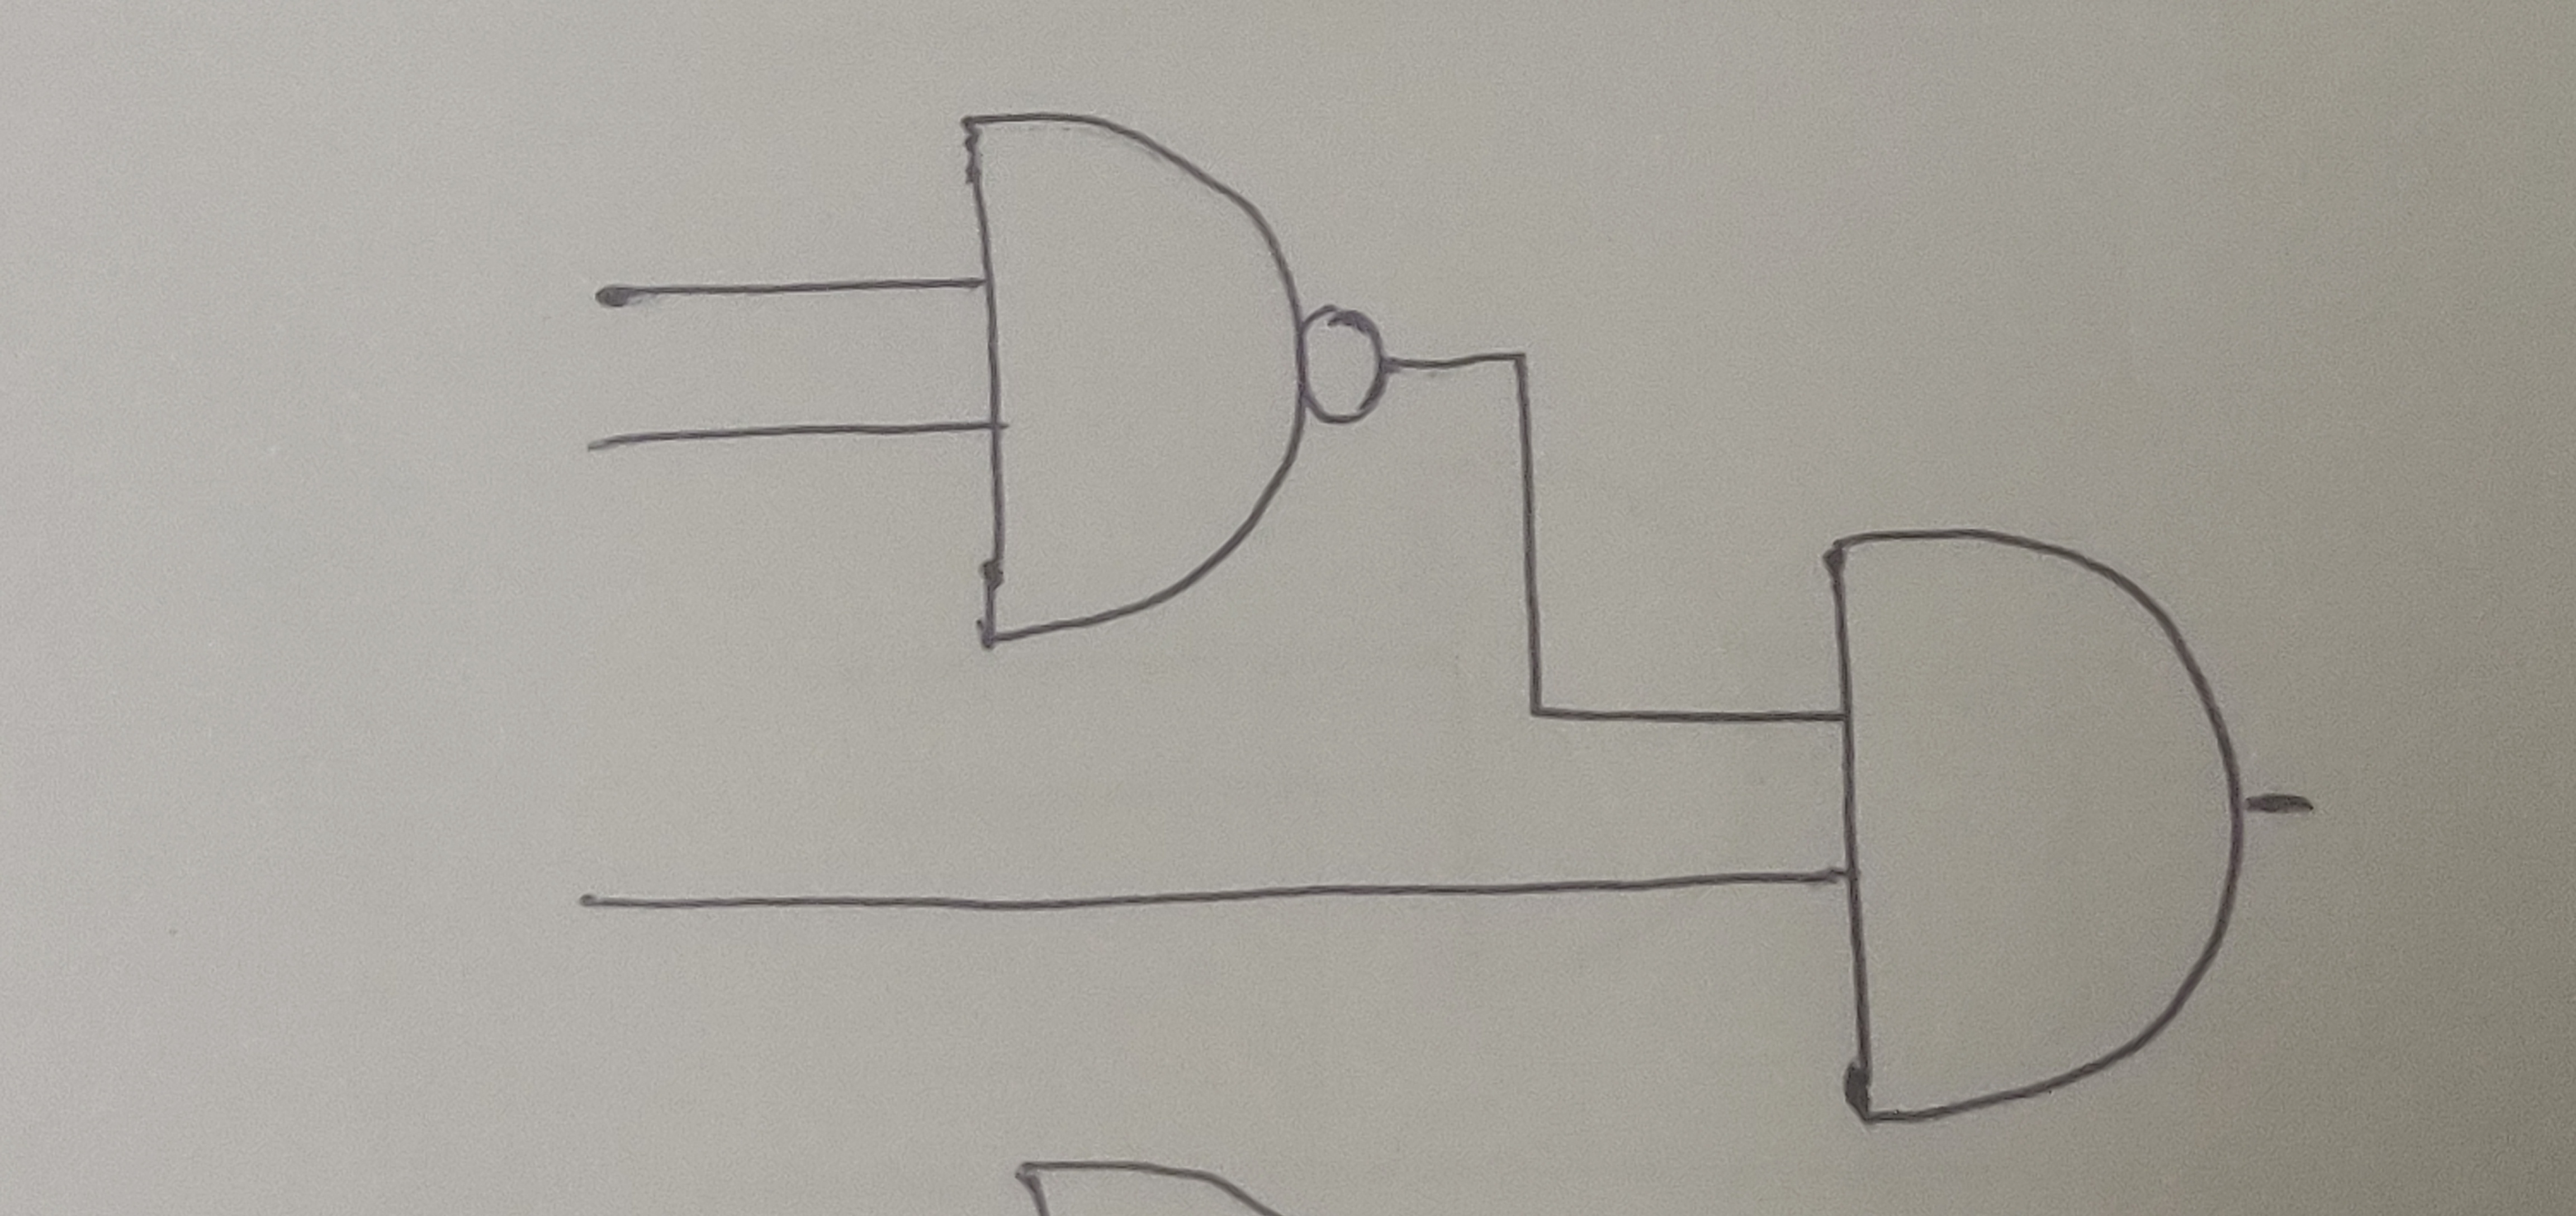and: (1820, 529, 2257, 1131), (959, 112, 1314, 654)
not: (1304, 302, 1396, 431)
